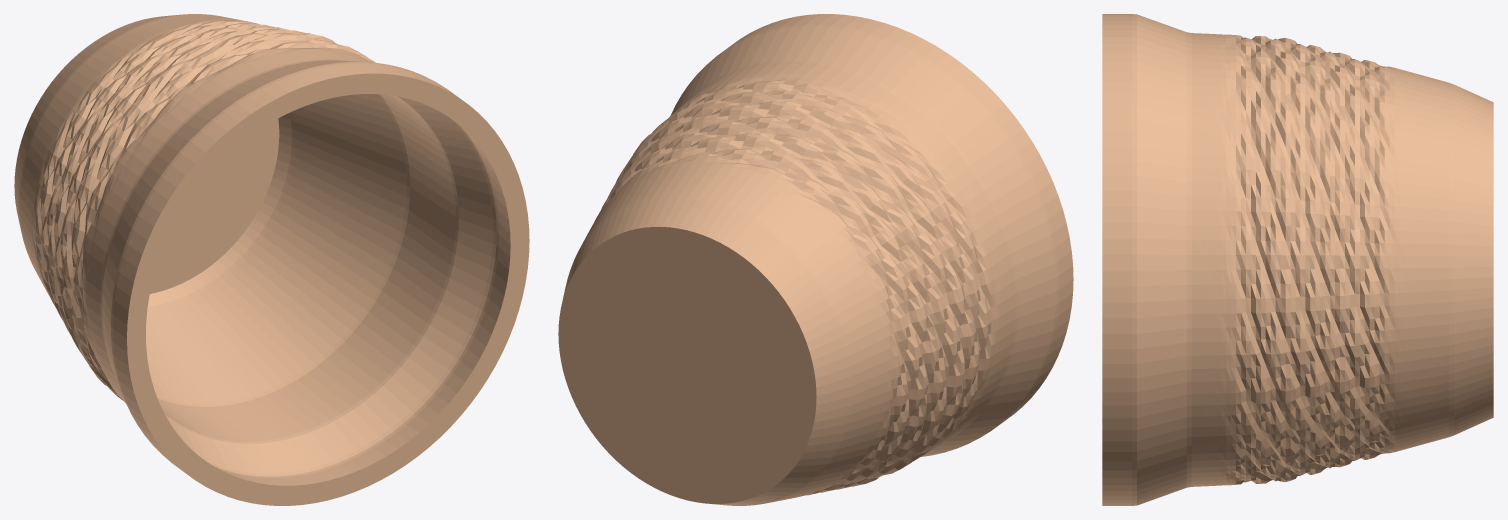
Rendered from Pot_08_Etched_Diamond.glb.
The picture shows the model from 3 angles, left to right: view 1: azimuth 30°, elevation 25°; view 2: azimuth 150°, elevation 25°; view 3: azimuth 270°, elevation 25°; orthographic projection. The views are drawn at different scales.
Visible parts, largest first — view 1: Pot_08_Etched_Diamond; view 2: Pot_08_Etched_Diamond; view 3: Pot_08_Etched_Diamond.
Part boxes in pixels (bbox=[...]): Pot_08_Etched_Diamond: bbox=[14, 14, 529, 505]; Pot_08_Etched_Diamond: bbox=[558, 14, 1073, 505]; Pot_08_Etched_Diamond: bbox=[1102, 14, 1493, 505].
Size of the model in its own units: 0.234 by 0.234 by 0.186.
